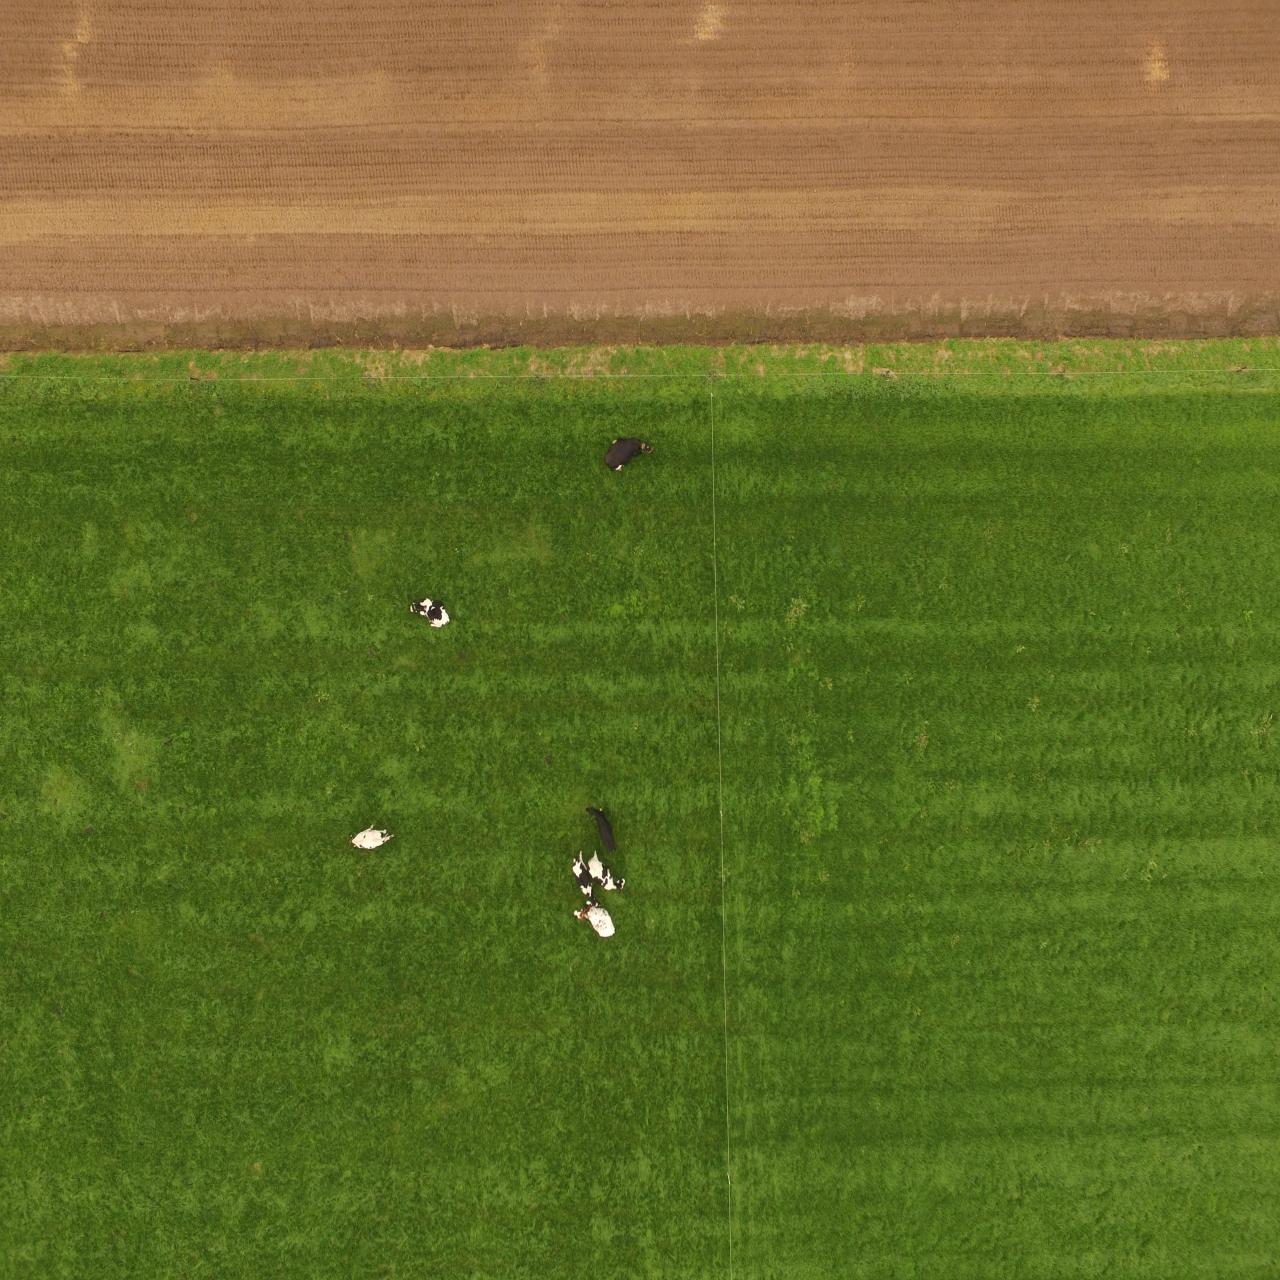cow: (572, 899, 627, 945), (581, 799, 621, 852), (406, 594, 456, 634), (601, 437, 654, 474), (590, 846, 629, 894), (564, 853, 598, 906), (347, 822, 394, 855)
